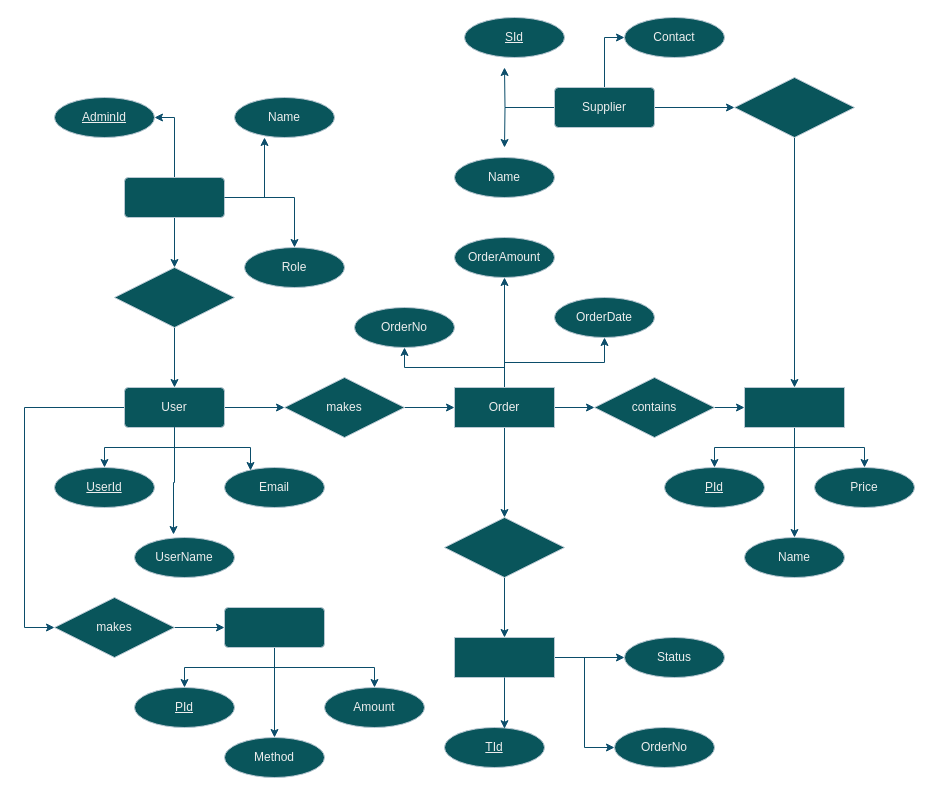
The diagram is 932 pixels wide and 795 high, and some of its shapes have lost their labels. Each missing label, with the box of its shape:
Admin: (124, 176, 224, 218)
has: (444, 516, 564, 578)
manage: (114, 266, 234, 328)
Payment: (224, 606, 324, 648)
Product: (744, 386, 844, 428)
supplies: (734, 76, 854, 138)
Tracking Detail: (454, 636, 554, 678)
